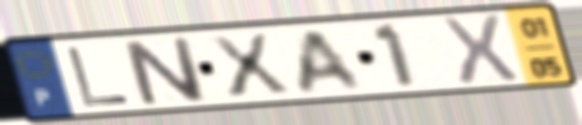1: (369, 22, 425, 90)
A: (296, 26, 368, 97)
L: (62, 44, 135, 109)
N: (117, 35, 212, 108)
X: (436, 12, 524, 89), (203, 30, 296, 100)
